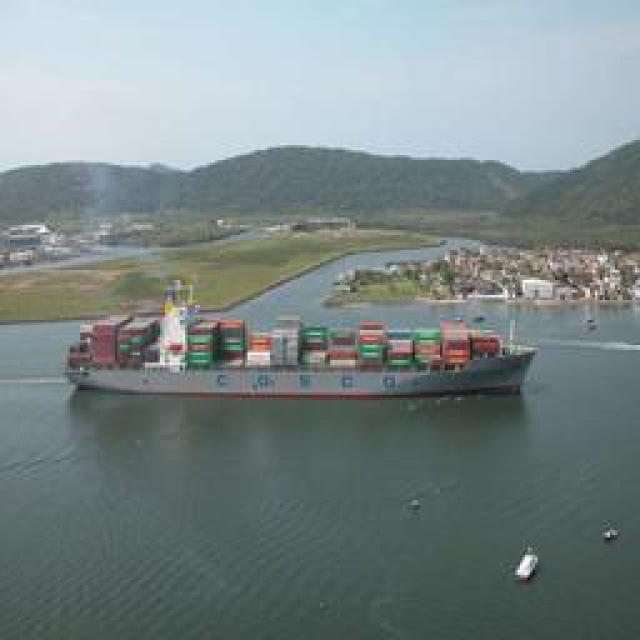Ship: (70, 276, 535, 404), (513, 550, 542, 585), (600, 519, 623, 546)
